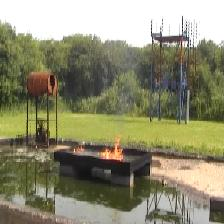fire: (98, 136, 124, 161)
